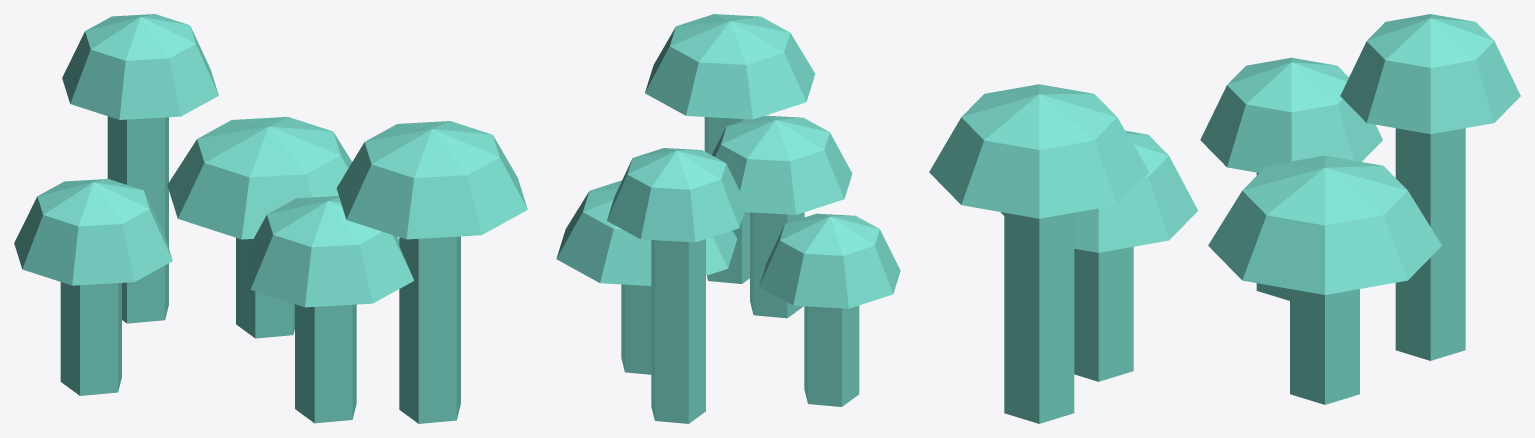
Rendered from mushrooms.fbx.
The picture shows the model from 3 angles, left to right: view 1: azimuth 30°, elevation 25°; view 2: azimuth 150°, elevation 25°; view 3: azimuth 270°, elevation 25°; orthographic projection. The views are drawn at different scales.
Parts seen in each view (by area): view 1: mushrooms; view 2: mushrooms; view 3: mushrooms.
Part boxes in pixels (<box>): mushrooms: <box>14,14,527,423</box>; mushrooms: <box>556,14,900,423</box>; mushrooms: <box>929,14,1520,423</box>.
Bounding box in the file's own units: 200 × 147 × 241.
